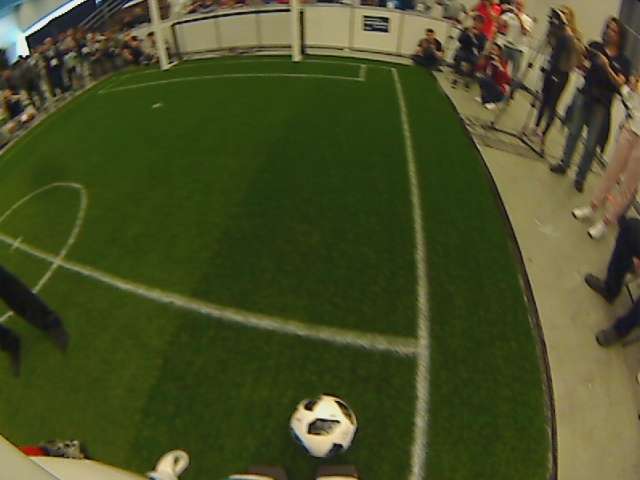ball: (288, 391, 359, 463)
goalpost: (285, 42, 310, 69), (151, 56, 176, 80)
robot: (38, 441, 85, 463)
